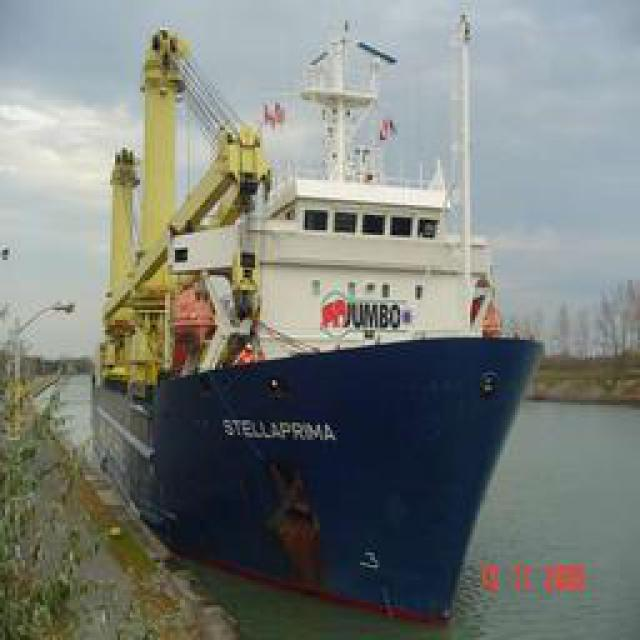Ship: (106, 4, 541, 627)
